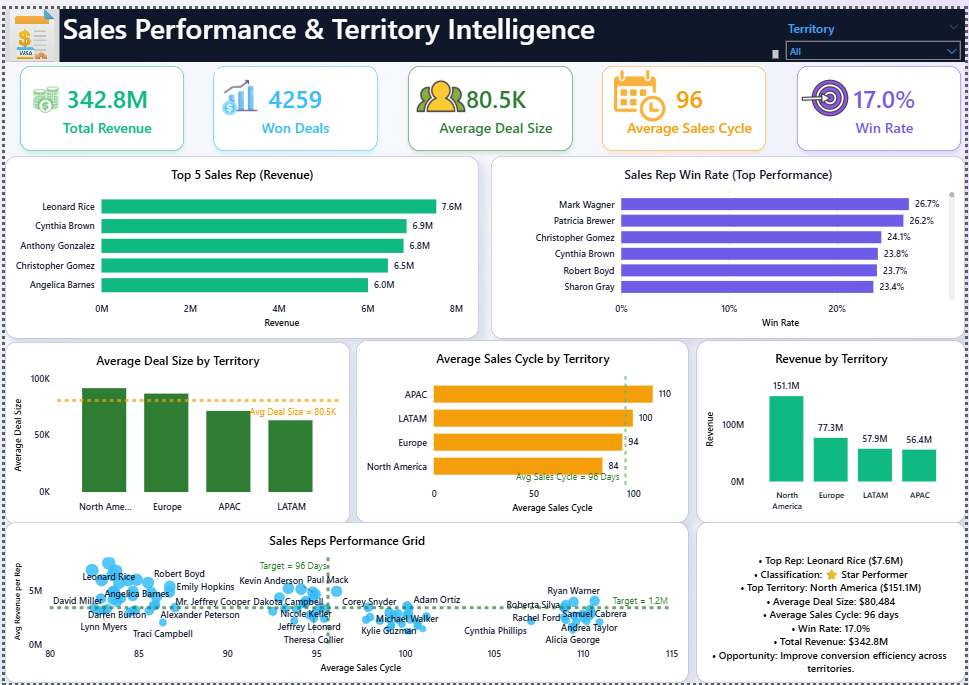

This screenshot's page, from the dashboard's own definition file:
{"tool":"powerbi","page":{"name":"Page 3","canvas":[1280,900],"ordinal":2},"visuals":[{"type":"shape","box":[0,0,1280,70.9],"z":0},{"type":"textbox","title":"Sales Performance & Territory Intelligence","box":[72.9,0,964.1,70.9],"z":1000},{"type":"actionButton","box":[0.3,0,72.9,70.9],"z":2000},{"type":"card","fields":{"Values":["Measures table.Total Revenue"]},"box":[20.3,77,218.7,113.4],"z":2000,"group":"g6"},{"type":"card","fields":{"Values":["Measures table.Won Deals"]},"box":[279,77,218.7,113.4],"z":3000,"group":"g5"},{"type":"group","id":"g1","title":"Group 2","box":[796.5,77,218.7,113.4],"z":3000},{"type":"card","fields":{"Values":["Measures table.Average Deal Size"]},"box":[537.7,77,218.7,113.4],"z":4000,"group":"g4"},{"type":"group","id":"g2","title":"Group 3","box":[1055.2,77,218.7,113.4],"z":4000},{"type":"group","id":"g3","title":"Group 4","box":[20.3,77,218.7,113.4],"z":5000},{"type":"card","fields":{"Values":["Measures table.Average Sales Cycle"]},"box":[796.5,77,218.7,113.4],"z":5000,"group":"g1"},{"type":"group","id":"g4","title":"Group 5","box":[537.7,77,218.7,113.4],"z":6000},{"type":"card","fields":{"Values":["Measures table.Win Rate"]},"box":[1055.2,77,218.7,113.4],"z":6000,"group":"g2"},{"type":"group","id":"g5","title":"Group 6","box":[279,77,218.7,113.4],"z":7000},{"type":"actionButton","box":[812.2,81.1,68.9,70.9],"z":7000,"group":"g1"},{"type":"actionButton","box":[24.4,83.1,60.8,66.8],"z":7002,"group":"g6"},{"type":"actionButton","box":[1059.3,83.1,66.8,72.9],"z":7003,"group":"g2"},{"type":"actionButton","box":[544.8,85.1,70.9,64.8],"z":7006,"group":"g4"},{"type":"actionButton","box":[281.5,81.1,64.8,74.9],"z":7008,"group":"g5"},{"type":"group","id":"g6","title":"Group 7","box":[20.3,77,218.7,113.4],"z":7010,"group":"g3"},{"type":"clusteredBarChart","title":"Top 5 Sales Rep (Revenue)","fields":{"Category":["dim_sales_rep.sales_rep_name"],"Y":["Measures table.Total Revenue"]},"box":[0,196.5,631.9,243],"z":8000},{"type":"clusteredBarChart","title":"Sales Rep Win Rate (Top Performance)","fields":{"Category":["dim_sales_rep.sales_rep_name"],"Y":["Measures table.Rep Win Rate"]},"box":[648.1,196.5,631.9,243],"z":9000},{"type":"clusteredColumnChart","title":"Revenue by Territory","fields":{"Category":["dim_sales_rep.territory"],"Y":["Measures table.Total Revenue"]},"box":[921.5,441.5,358.5,243],"z":10000},{"type":"clusteredColumnChart","title":"Average Deal Size by Territory","fields":{"Category":["dim_sales_rep.territory"],"Y":["Measures table.Average Deal Size"]},"box":[0,443.5,459.7,243],"z":11000},{"type":"clusteredBarChart","title":"Average Sales Cycle by Territory","fields":{"Y":["Measures table.Average Sales Cycle"],"Category":["dim_sales_rep.territory"]},"box":[467.8,441.5,443.5,243],"z":12000},{"type":"scatterChart","title":"Sales Reps Performance Grid","fields":{"X":["Measures table.Average Sales Cycle"],"Y":["Measures table.Total Revenue"],"Category":["dim_sales_rep.sales_rep_name"],"Size":["Measures table.Total Revenue"]},"box":[0,684.6,911.4,214.7],"z":13000},{"type":"card","title":"Sales Insight (Dynamic)","fields":{"Values":["Measures table.Sales Insights"]},"box":[921.5,684.6,358.5,214.7],"z":14000},{"type":"slicer","title":"Territory","fields":{"Values":["dim_sales_rep.territory"]},"box":[1037,14.2,243,70.9],"z":15000}]}

Visuals, with their boxes in screenshot pixels (x1, y1, x2, y2), scaled from the page's 1280x900 canvas onto the 969x685 screenshot:
shape: pyautogui.locateOnScreen(0, 0, 968, 54)
"Sales Performance & Territory Intelligence" textbox: pyautogui.locateOnScreen(55, 0, 785, 54)
actionButton: pyautogui.locateOnScreen(0, 0, 55, 54)
card - Measures table.Total Revenue: pyautogui.locateOnScreen(15, 59, 181, 145)
card - Measures table.Won Deals: pyautogui.locateOnScreen(211, 59, 377, 145)
"Group 2" group: pyautogui.locateOnScreen(603, 59, 769, 145)
card - Measures table.Average Deal Size: pyautogui.locateOnScreen(407, 59, 573, 145)
"Group 3" group: pyautogui.locateOnScreen(799, 59, 964, 145)
"Group 4" group: pyautogui.locateOnScreen(15, 59, 181, 145)
card - Measures table.Average Sales Cycle: pyautogui.locateOnScreen(603, 59, 769, 145)
"Group 5" group: pyautogui.locateOnScreen(407, 59, 573, 145)
card - Measures table.Win Rate: pyautogui.locateOnScreen(799, 59, 964, 145)
"Group 6" group: pyautogui.locateOnScreen(211, 59, 377, 145)
actionButton: pyautogui.locateOnScreen(615, 62, 667, 116)
actionButton: pyautogui.locateOnScreen(18, 63, 64, 114)
actionButton: pyautogui.locateOnScreen(802, 63, 852, 119)
actionButton: pyautogui.locateOnScreen(412, 65, 466, 114)
actionButton: pyautogui.locateOnScreen(213, 62, 262, 119)
"Group 7" group: pyautogui.locateOnScreen(15, 59, 181, 145)
"Top 5 Sales Rep (Revenue)" clusteredBarChart: pyautogui.locateOnScreen(0, 150, 478, 335)
"Sales Rep Win Rate (Top Performance)" clusteredBarChart: pyautogui.locateOnScreen(491, 150, 968, 335)
"Revenue by Territory" clusteredColumnChart: pyautogui.locateOnScreen(698, 336, 968, 521)
"Average Deal Size by Territory" clusteredColumnChart: pyautogui.locateOnScreen(0, 338, 348, 523)
"Average Sales Cycle by Territory" clusteredBarChart: pyautogui.locateOnScreen(354, 336, 690, 521)
"Sales Reps Performance Grid" scatterChart: pyautogui.locateOnScreen(0, 521, 690, 684)
"Sales Insight (Dynamic)" card: pyautogui.locateOnScreen(698, 521, 968, 684)
"Territory" slicer: pyautogui.locateOnScreen(785, 11, 968, 65)
